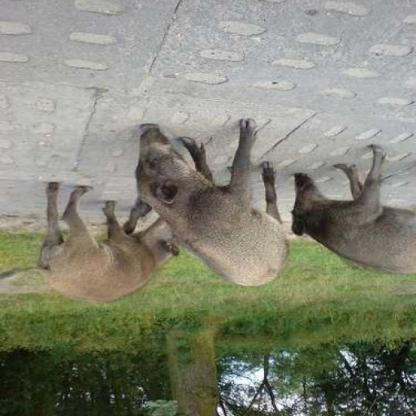boar: (117, 104, 315, 297), (288, 117, 415, 290), (21, 210, 187, 322)
